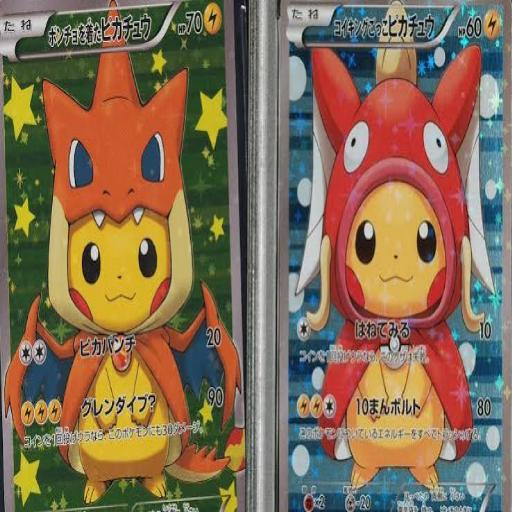Pikachu: (322, 79, 470, 489), (49, 103, 193, 504)
